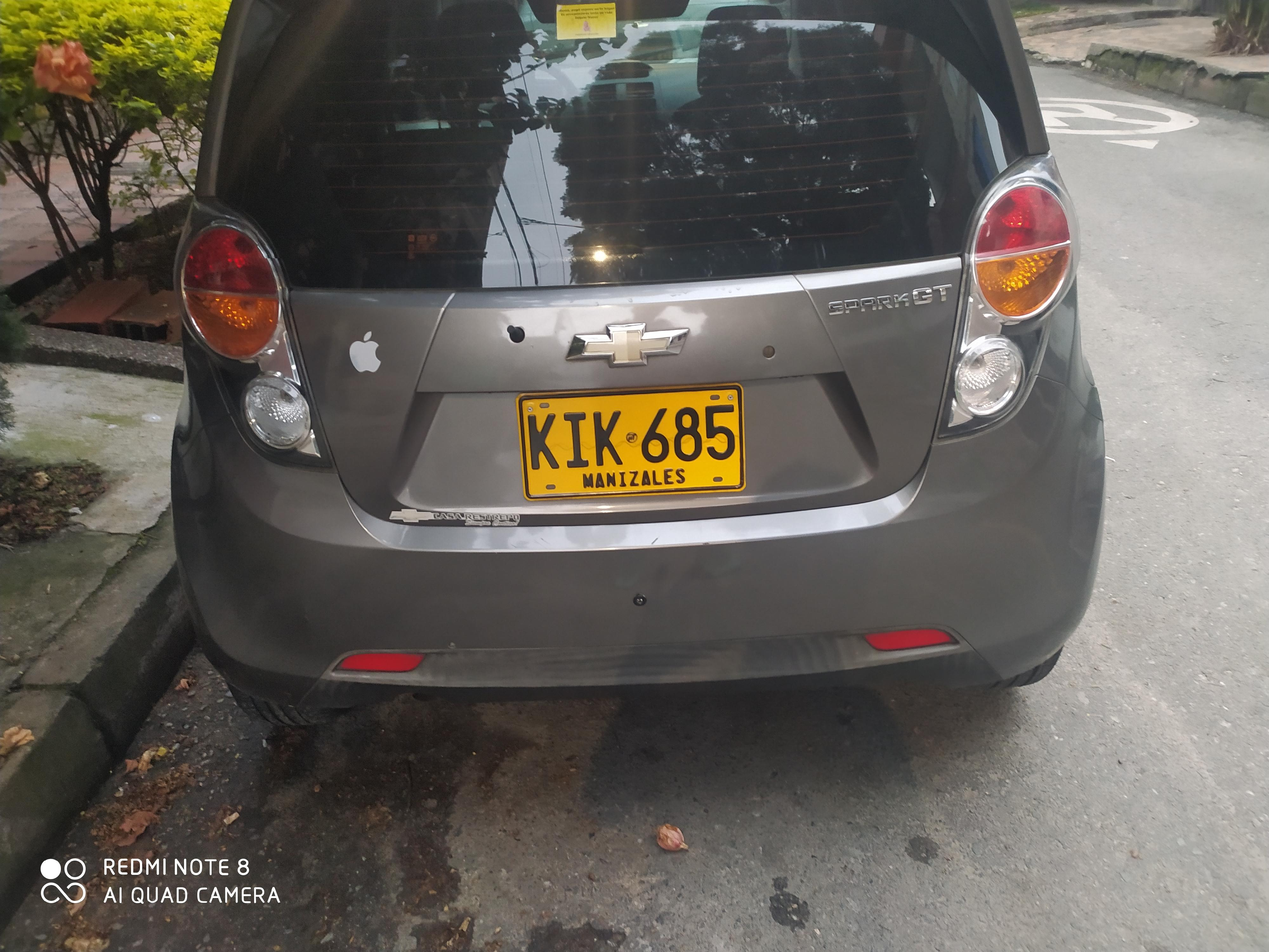placa: (503, 383, 766, 505)
